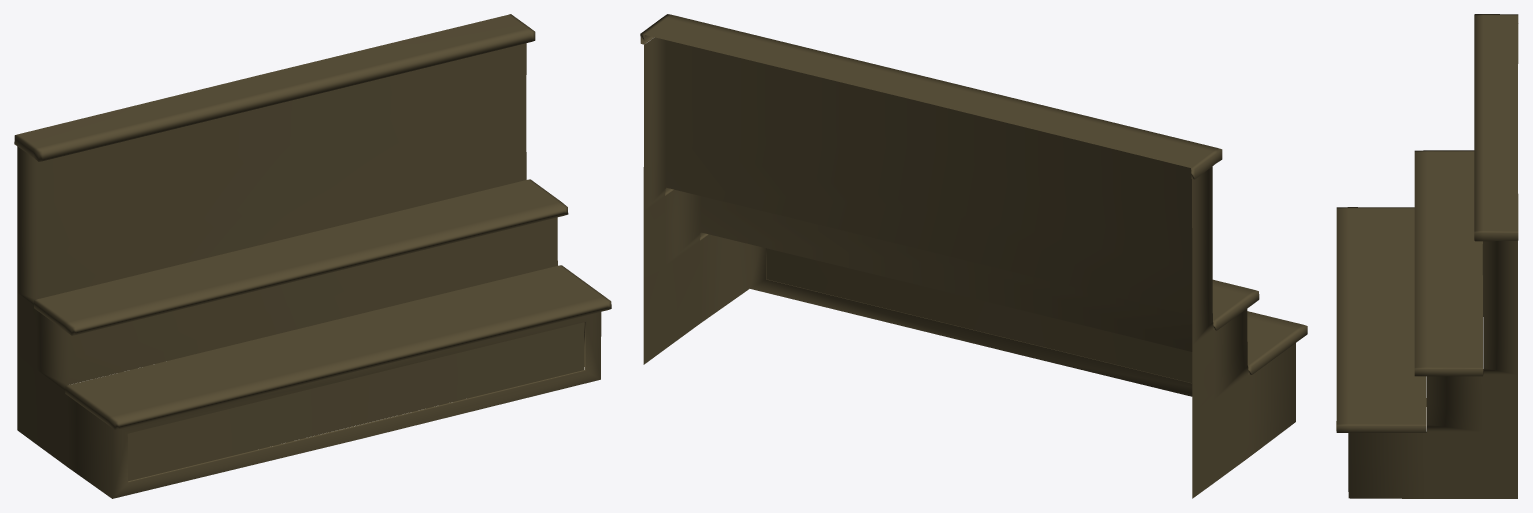
Rendered from Cabinet.fbx.
3 renders of one model, left to right at view 1: azimuth 30°, elevation 25°; view 2: azimuth 150°, elevation 25°; view 3: azimuth 270°, elevation 25°, orthographic. The views are drawn at different scales.
Visible parts, largest first — view 1: CabinetB, CabinetA; view 2: CabinetB, CabinetA; view 3: CabinetA, CabinetB.
Part boxes in pixels (x1,y1,x2,y2): CabinetB: [17, 43, 601, 498]; CabinetA: [14, 14, 611, 481]; CabinetB: [643, 37, 1295, 498]; CabinetA: [640, 14, 1307, 382]; CabinetA: [1336, 14, 1518, 432]; CabinetB: [1348, 240, 1517, 498].
Bounding box in the file's own units: 122 × 69.66 × 42.86.
Materials: 2 (2 with a texture image).
